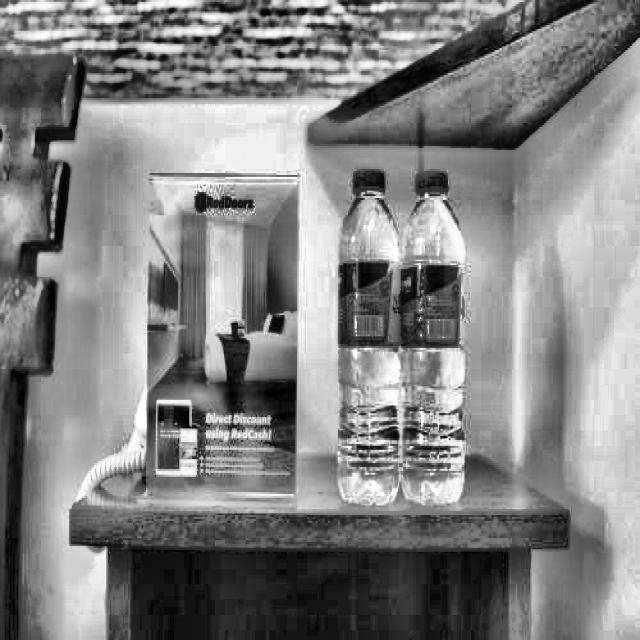waterbottle: (392, 159, 473, 517), (332, 160, 408, 519)
